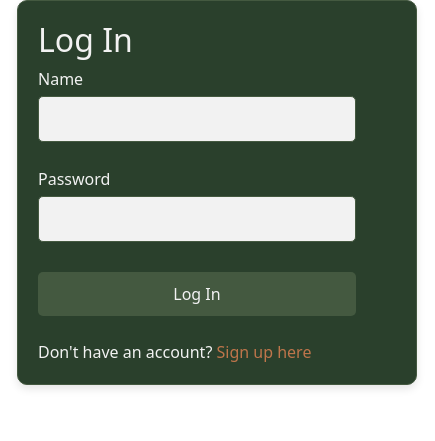
it: submitting form with invalid credentials displays error message
Type "wrongUser" into the field with test id "login-username".
click(197, 119); type("wrongUser")  # box [38, 96, 356, 142]
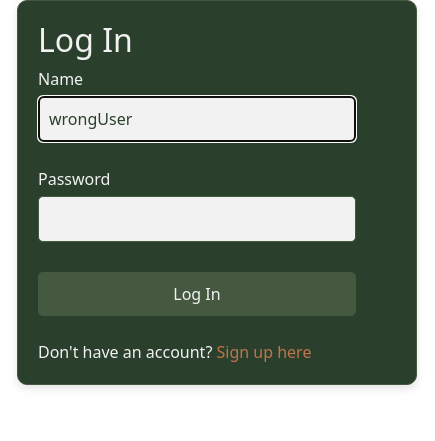
Type "wrongPassword" into the password field with test id "login-password".
click(197, 219); type("wrongPassword")  # box [38, 196, 356, 242]
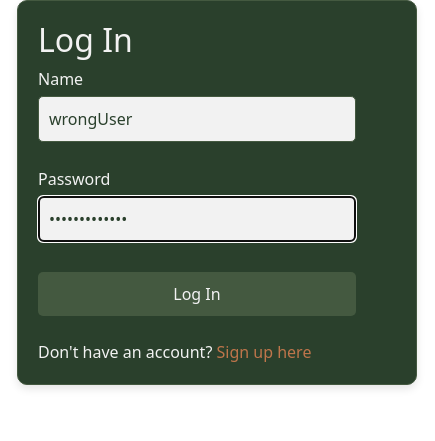
Click the button "Log In".
click(197, 294)  # box [38, 272, 356, 316]
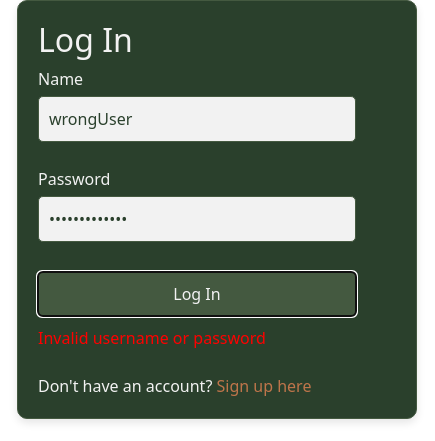
Expected: the text with test id "login-error" reads "Invalid username or password", [38, 327, 266, 349]
